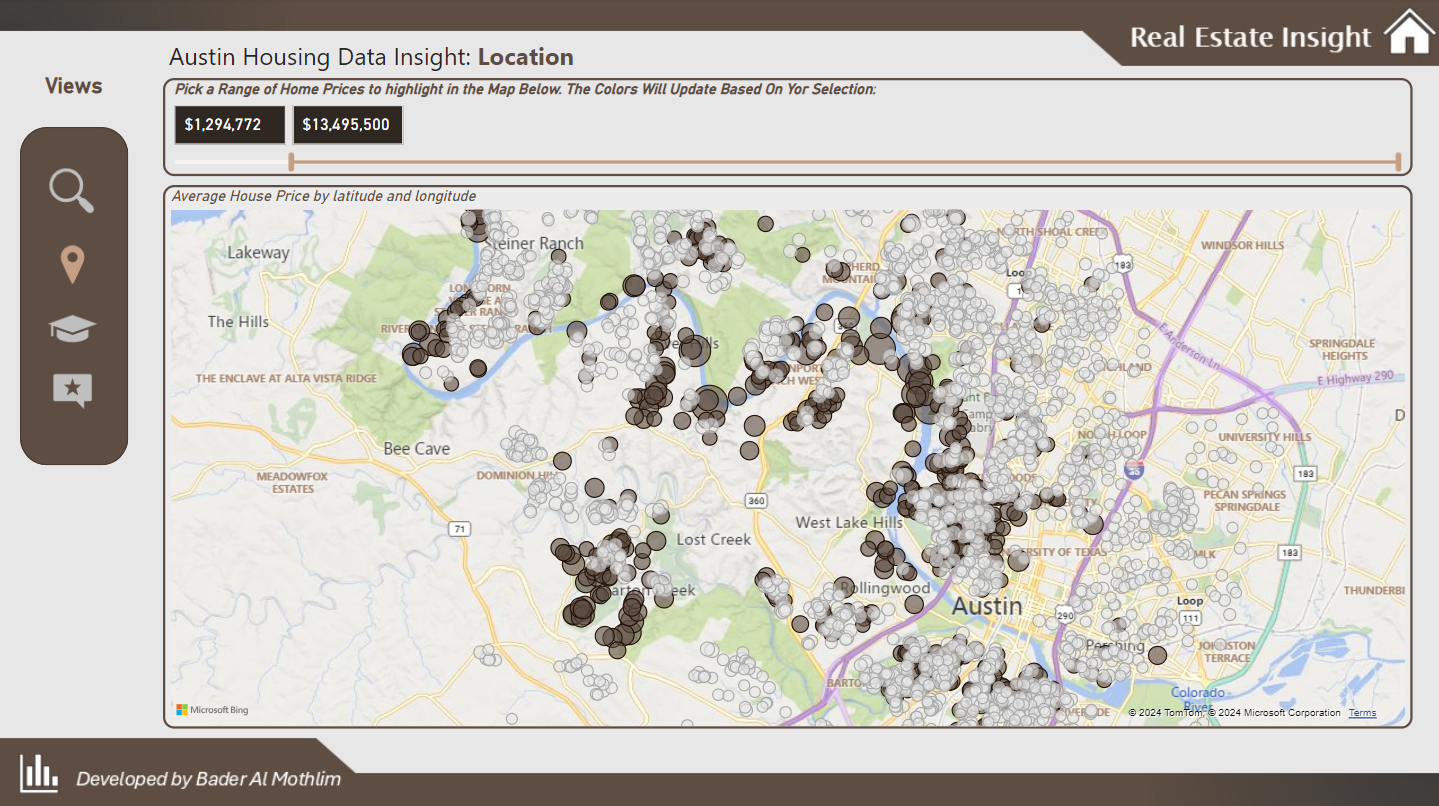

This screenshot's page, from the dashboard's own definition file:
{"tool":"powerbi","page":{"name":"Location","canvas":[1280,720],"ordinal":2},"visuals":[{"type":"map","fields":{"X":["location.longitude"],"Y":["location.latitude"],"Size":["_measures.Average House Price"]},"box":[366.7,129.4,887.1,499.9],"z":0},{"type":"slicer","fields":{"Values":["Housing_fact.latestPrice"]},"box":[143.8,153.8,216.2,113.1],"z":1000},{"type":"slicer","title":"d","fields":{"Values":["Housing_fact.livingAreaSqFt"]},"box":[144,379.3,215.9,101.2],"z":2000},{"type":"card","fields":{"Values":["Parameter (Range).Parameter Value"]},"box":[486.3,629.3,171.2,90.5],"z":3000},{"type":"card","fields":{"Values":["Parameter (Range).Max Parameter Valuse"]},"box":[946.4,629.3,171.2,90.5],"z":4000},{"type":"slicer","title":"d","fields":{"Values":["Housing_fact.lotSizeSqFt"]},"box":[144,480.5,215.9,101.2],"z":5000},{"type":"slicer","fields":{"Values":["Parameter (Range).Parameter"]},"box":[144,266.5,215.9,112.8],"z":6000},{"type":"slicer","title":"d","fields":{"Values":["Housing_fact.yearBuilt"]},"box":[142.9,581.7,216.2,101.3],"z":7000}]}

Visuals, with their boxes in screenshot pixels (x1, y1, x2, y2), scaled from the page's 1280x720 canvas onto the 1439x806 screenshot:
map - location.longitude x location.latitude: box(412, 145, 1410, 704)
slicer - Housing_fact.latestPrice: box(162, 172, 405, 299)
"d" slicer: box(162, 425, 405, 538)
card - Parameter (Range).Parameter Value: box(547, 704, 739, 805)
card - Parameter (Range).Max Parameter Valuse: box(1064, 704, 1256, 805)
"d" slicer: box(162, 538, 405, 651)
slicer - Parameter (Range).Parameter: box(162, 298, 405, 425)
"d" slicer: box(161, 651, 404, 765)
